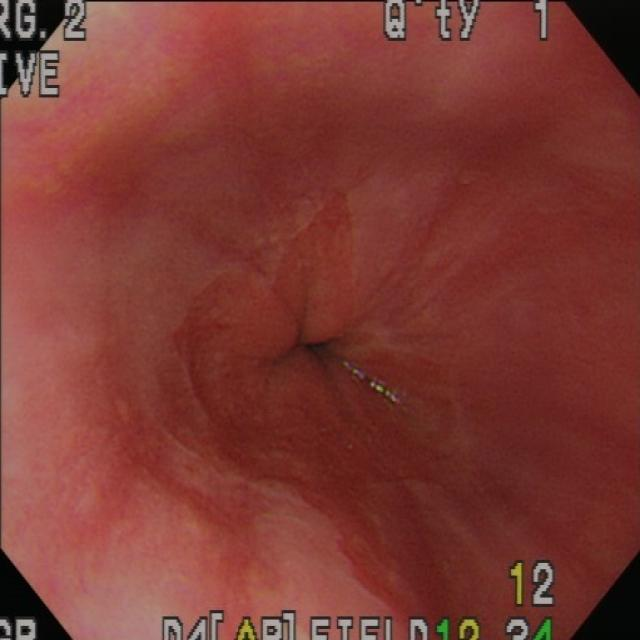D: (87, 397, 279, 600), (309, 490, 461, 610)
I: (209, 209, 418, 462)
S: (160, 611, 483, 640), (383, 3, 558, 45), (3, 3, 83, 45), (3, 50, 63, 102), (507, 561, 556, 611), (506, 617, 556, 640), (2, 617, 39, 640)
U: (343, 359, 403, 410)
